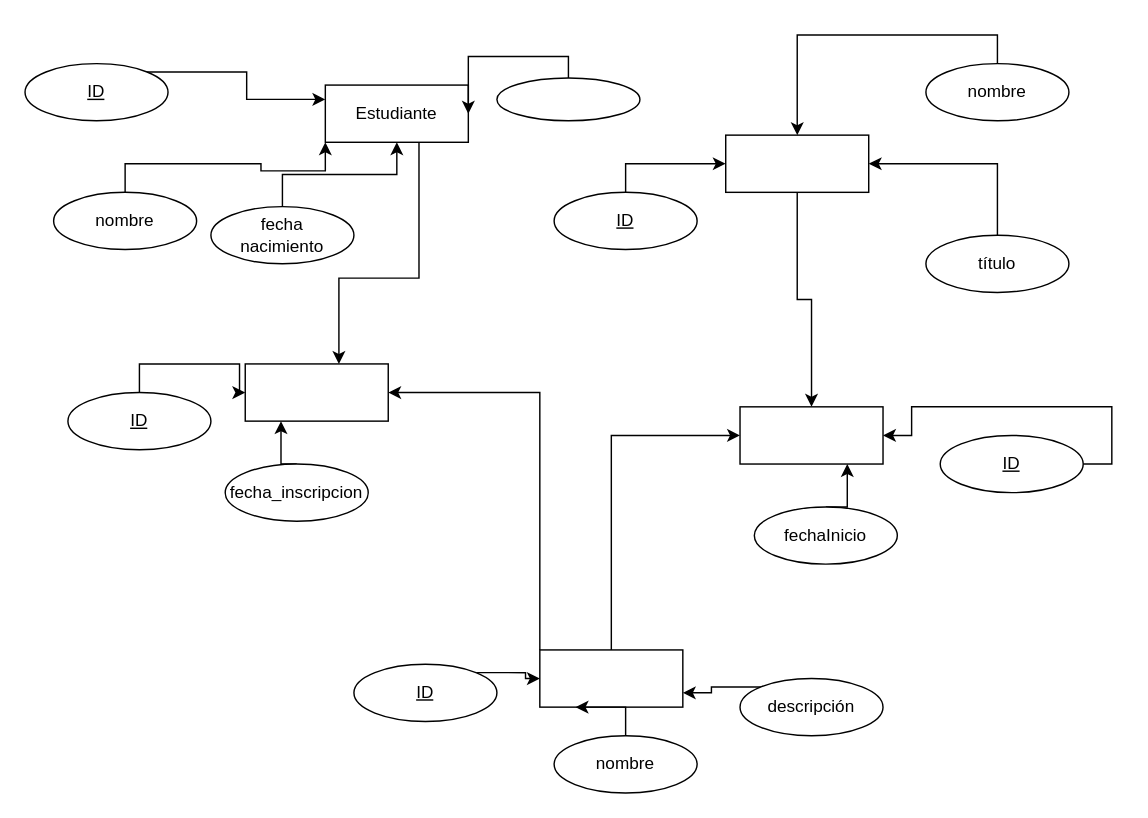
Some shapes in this 1148 by 818 pixel diagram are drawn without their labels. The box of each missing label's shape, as (x1, y1, x2, y2) in pixels:
Curso: (538, 649, 683, 707)
direccion: (495, 77, 640, 121)
Enseñanza: (739, 405, 883, 464)
Inscripción: (244, 363, 388, 421)
Profesor: (724, 134, 869, 192)
